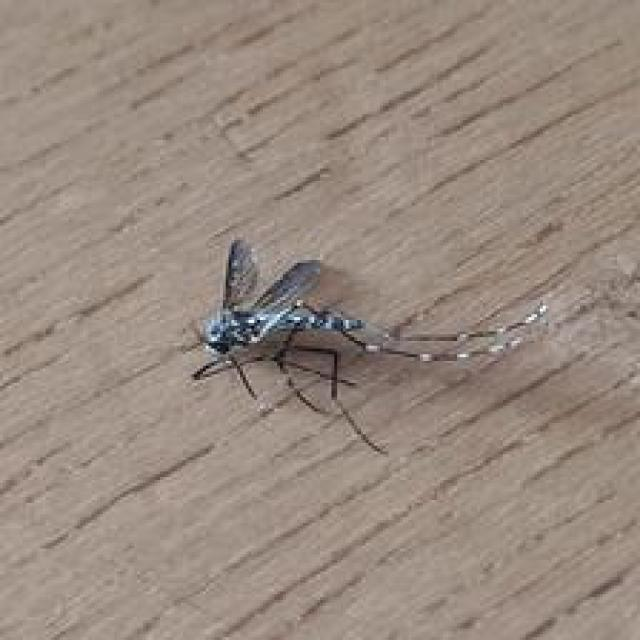Aedes albopictus: (179, 235, 550, 456)
